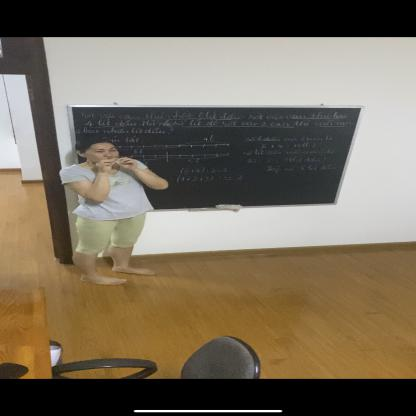cigarette: (114, 160, 122, 164)
person: (59, 138, 167, 284)
